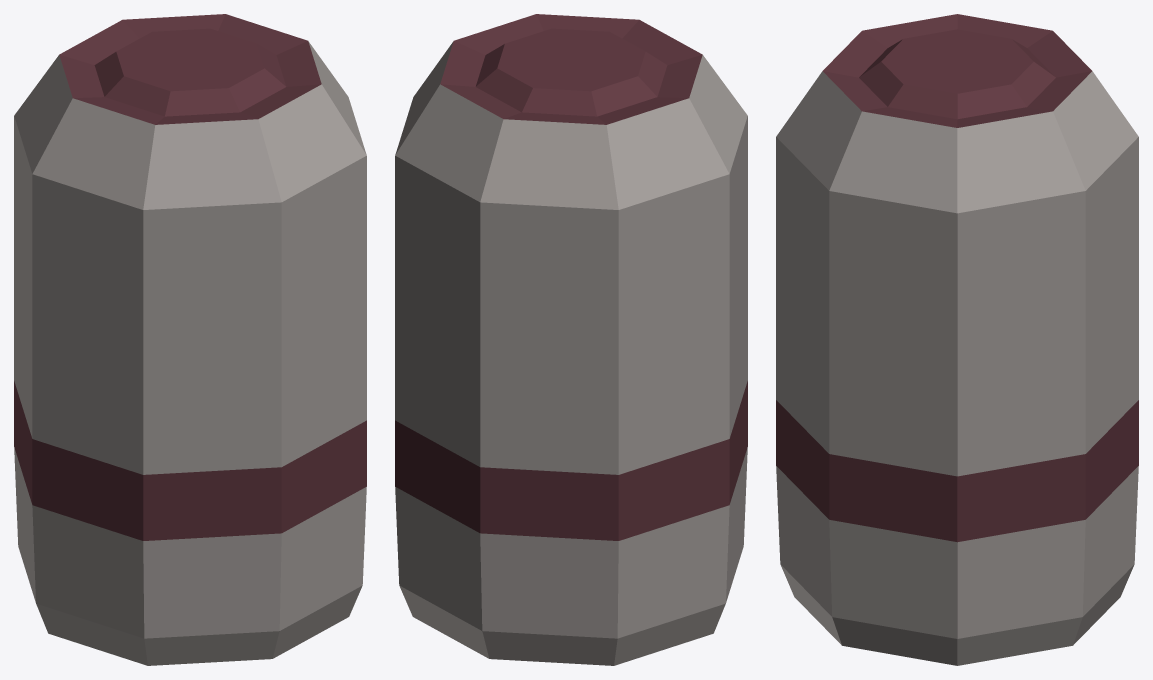
Rendered from scifi-scifi-resource-canister.glb.
3 renders of one model, left to right at view 1: azimuth 30°, elevation 25°; view 2: azimuth 150°, elevation 25°; view 3: azimuth 270°, elevation 25°, orthographic.
Parts seen in each view (by area): view 1: scifi-resource-canister; view 2: scifi-resource-canister; view 3: scifi-resource-canister.
Part boxes in pixels (x1,y1,x2,y2): scifi-resource-canister: [14, 14, 366, 665]; scifi-resource-canister: [395, 14, 747, 665]; scifi-resource-canister: [776, 14, 1138, 665].
Bounding box in the file's own units: 0.5 × 0.8144 × 0.5.
